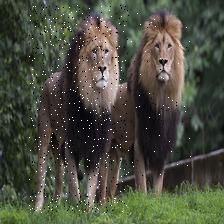Lion: (28, 5, 126, 213), (120, 10, 193, 181)
